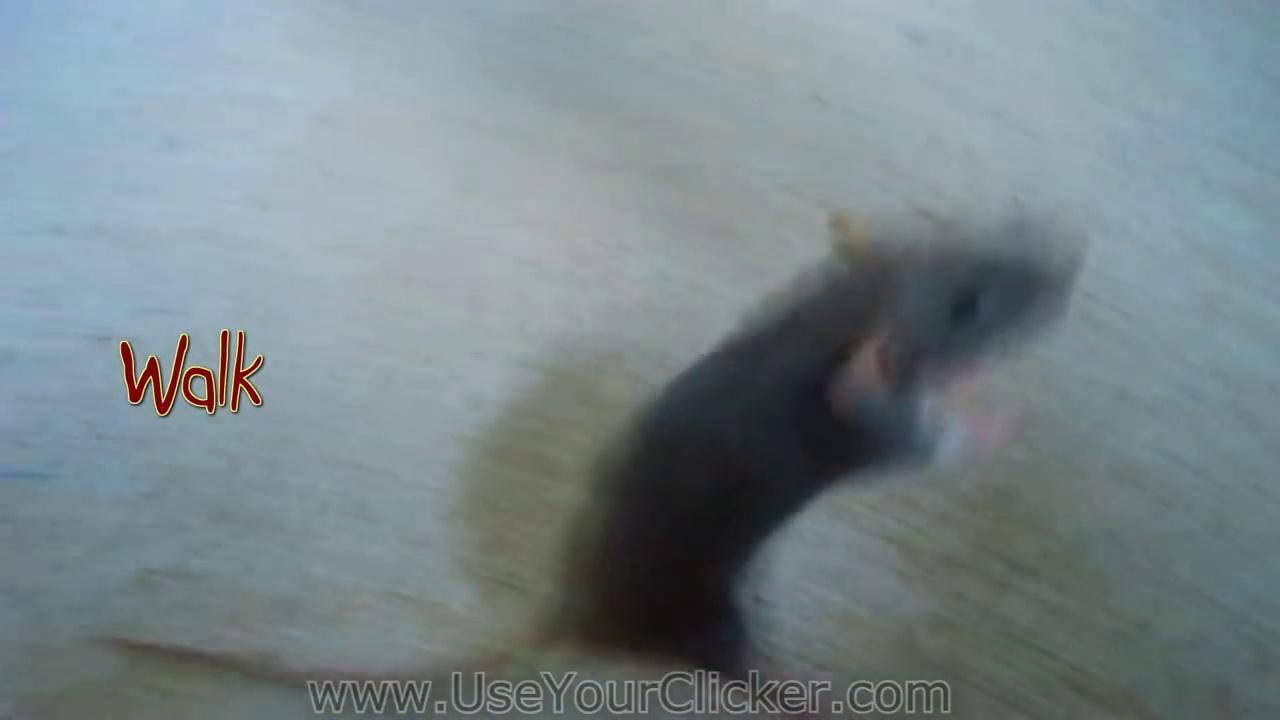rat: (82, 203, 1086, 720)
